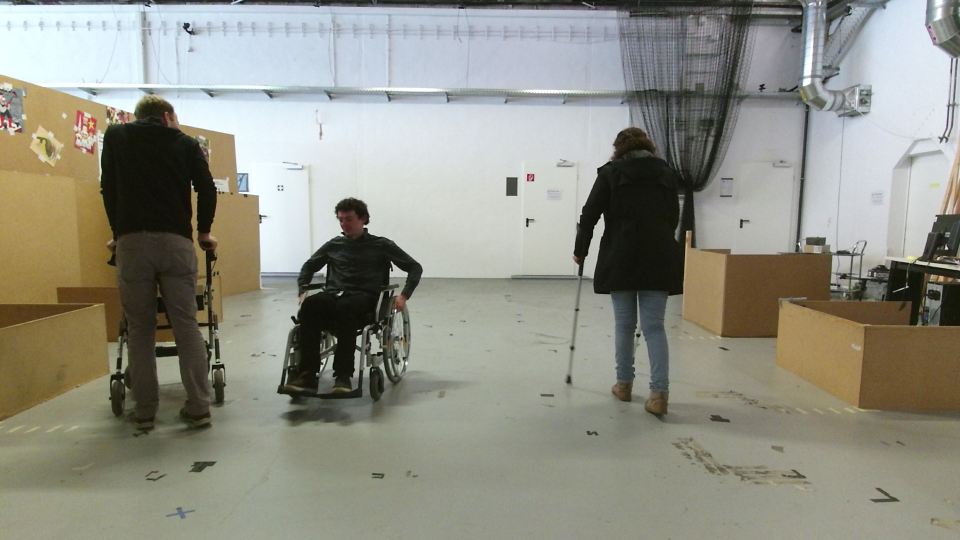crutches: (562, 122, 693, 423)
wheelchair: (268, 193, 425, 410)
